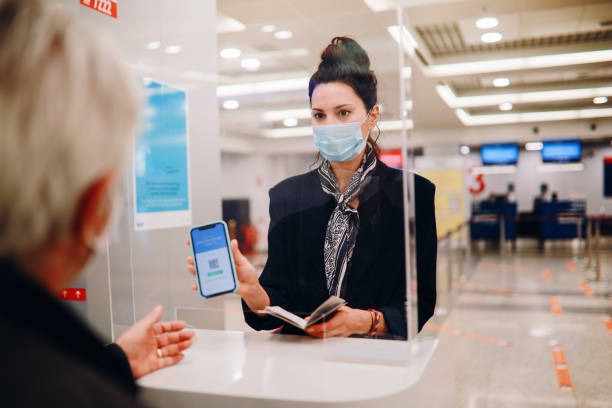with mask: (305, 85, 372, 168)
